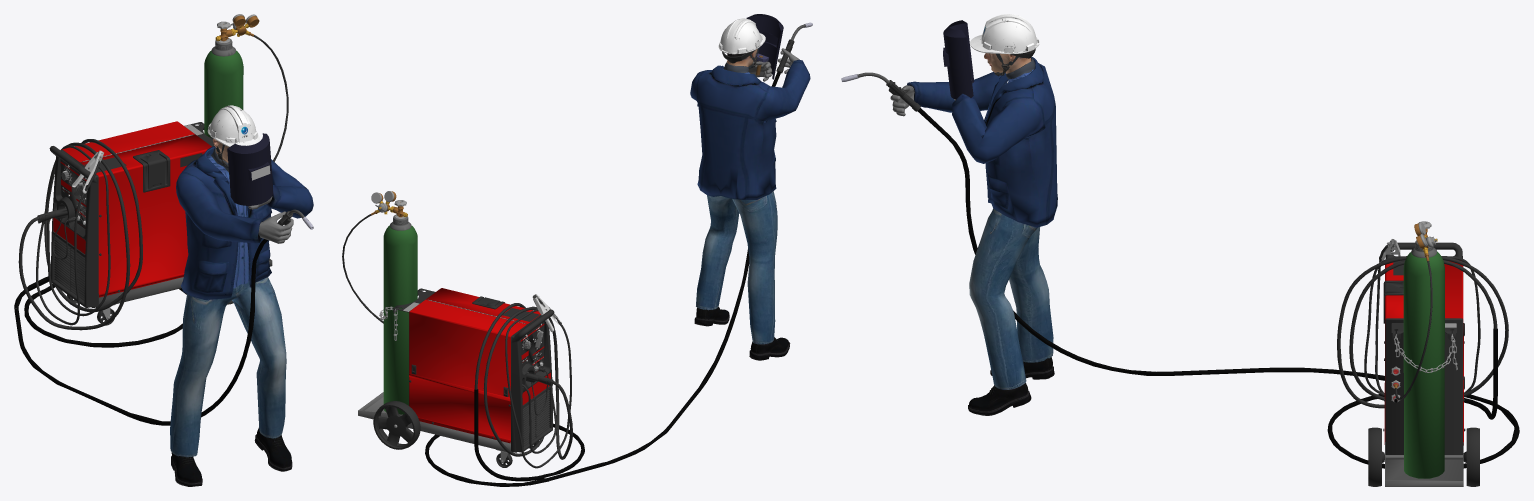
File: worker-welder-machine.glb
3 renders of one model, left to right at view 1: azimuth 30°, elevation 25°; view 2: azimuth 150°, elevation 25°; view 3: azimuth 270°, elevation 25°, orthographic. The views are drawn at different scales.
Visible parts, largest first — view 1: Object_12, Object_124, Object_484, Object_26, Object_706, Object_24, Object_708, Object_270, Object_718, Object_8, Object_756, Object_348 (+4 smaller); view 2: Object_12, Object_270, Object_708, Object_484, Object_292, Object_26, Object_706, Object_358, Object_756, Object_380, Object_718, Object_8 (+3 smaller); view 3: Object_12, Object_708, Object_560, Object_26, Object_706, Object_756, Object_24, Object_8, Object_380, Object_718, Object_270, Object_432 (+2 smaller).
Part boxes in pixels (x1,y1,x2,y2): Object_12: (170,146,313,457); Object_124: (81,134,211,297); Object_484: (49,146,98,307); Object_26: (14,239,267,425); Object_706: (18,139,142,330); Object_24: (227,133,272,205); Object_708: (204,50,243,137); Object_270: (62,121,194,162); Object_718: (36,145,110,325); Object_8: (171,428,292,486); Object_756: (207,105,260,146); Object_348: (133,150,170,192); Object_12: (690,59,810,344); Object_270: (409,299,526,401); Object_708: (383,225,417,414); Object_484: (511,309,554,452); Object_292: (409,377,510,443); Object_26: (425,71,780,486); Object_706: (474,303,572,459); Object_358: (373,401,420,449); Object_756: (718,18,765,63); Object_380: (358,392,510,451); Object_718: (505,309,571,468); Object_8: (694,307,790,360); Object_12: (907,57,1057,389); Object_708: (1403,251,1444,478); Object_560: (1385,318,1462,454); Object_26: (917,108,1519,468); Object_706: (1337,256,1508,408); Object_756: (970,14,1039,58); Object_24: (943,20,974,99); Object_8: (968,357,1054,415); Object_380: (1385,401,1463,486); Object_718: (1364,256,1480,396); Object_270: (1444,261,1463,395); Object_432: (1368,427,1384,486).
Size of the model in its own units: 1.59 by 1.81 by 2.89.
27 materials, 8 textured.
